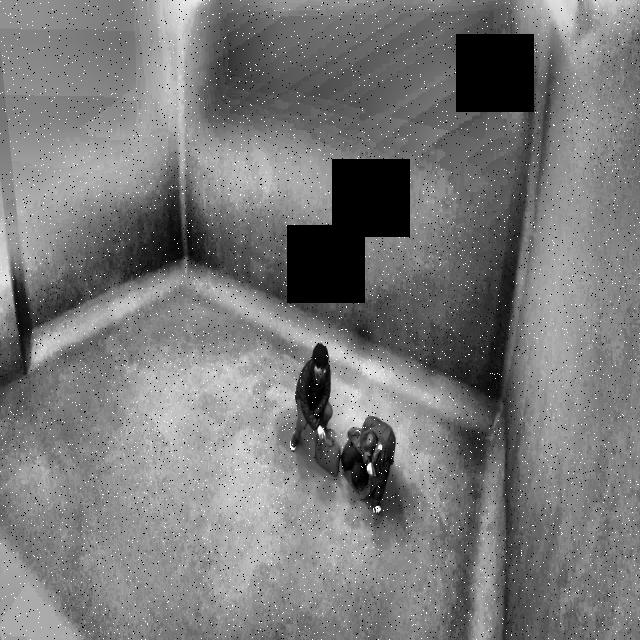assult: (284, 326, 404, 525), (342, 410, 399, 522)
